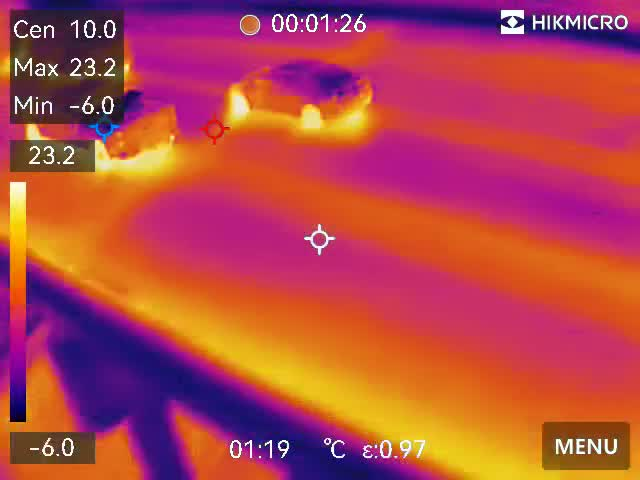smallCar: (219, 58, 379, 136)
